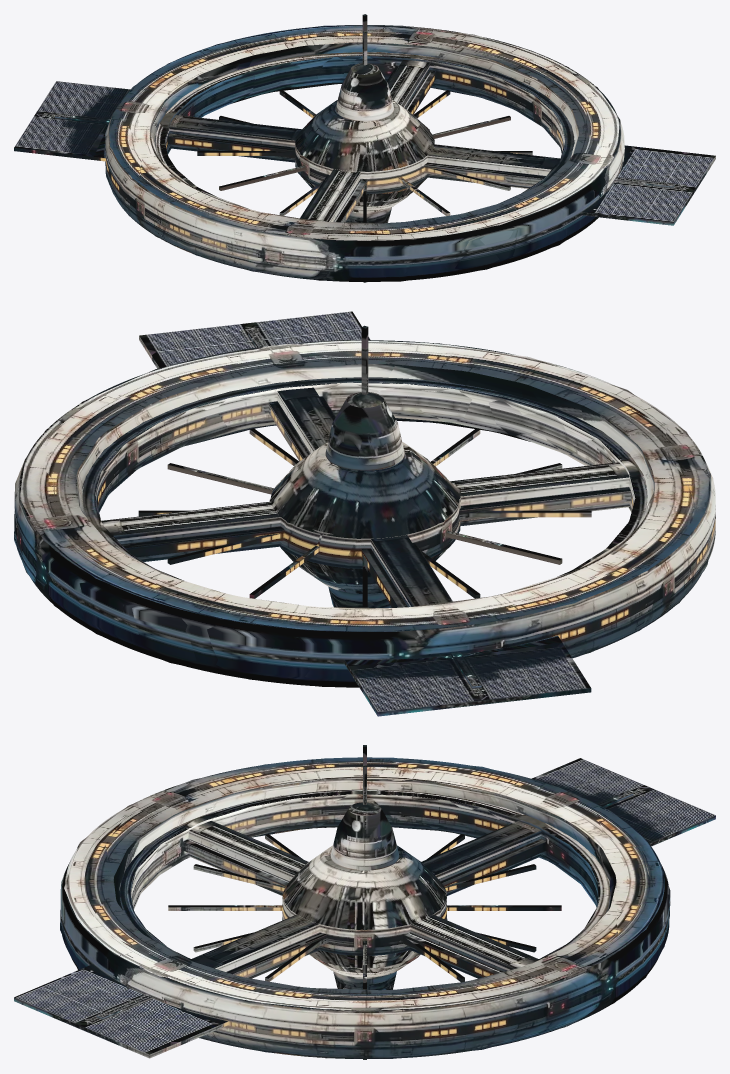
File: sd_st_ankora.glb
3 renders of one model, top to bottom at view 1: azimuth 30°, elevation 25°; view 2: azimuth 150°, elevation 25°; view 3: azimuth 270°, elevation 25°, orthographic. The views are drawn at different scales.
Visible parts, largest first — view 1: LOD0_body, LOD1_body; view 2: LOD0_body, LOD1_body; view 3: LOD0_body, LOD1_body.
Boxes of the visible parts, left/top/right/bottom form: LOD0_body: left=14, top=14, right=715, bottom=282; LOD1_body: left=105, top=25, right=715, bottom=281; LOD0_body: left=14, top=311, right=715, bottom=716; LOD1_body: left=14, top=337, right=715, bottom=686; LOD0_body: left=14, top=745, right=715, bottom=1059; LOD1_body: left=19, top=757, right=670, bottom=1058.
Size of the model in its own units: 1 by 0.4918 by 1.
Materials: 1 (1 with a texture image).
